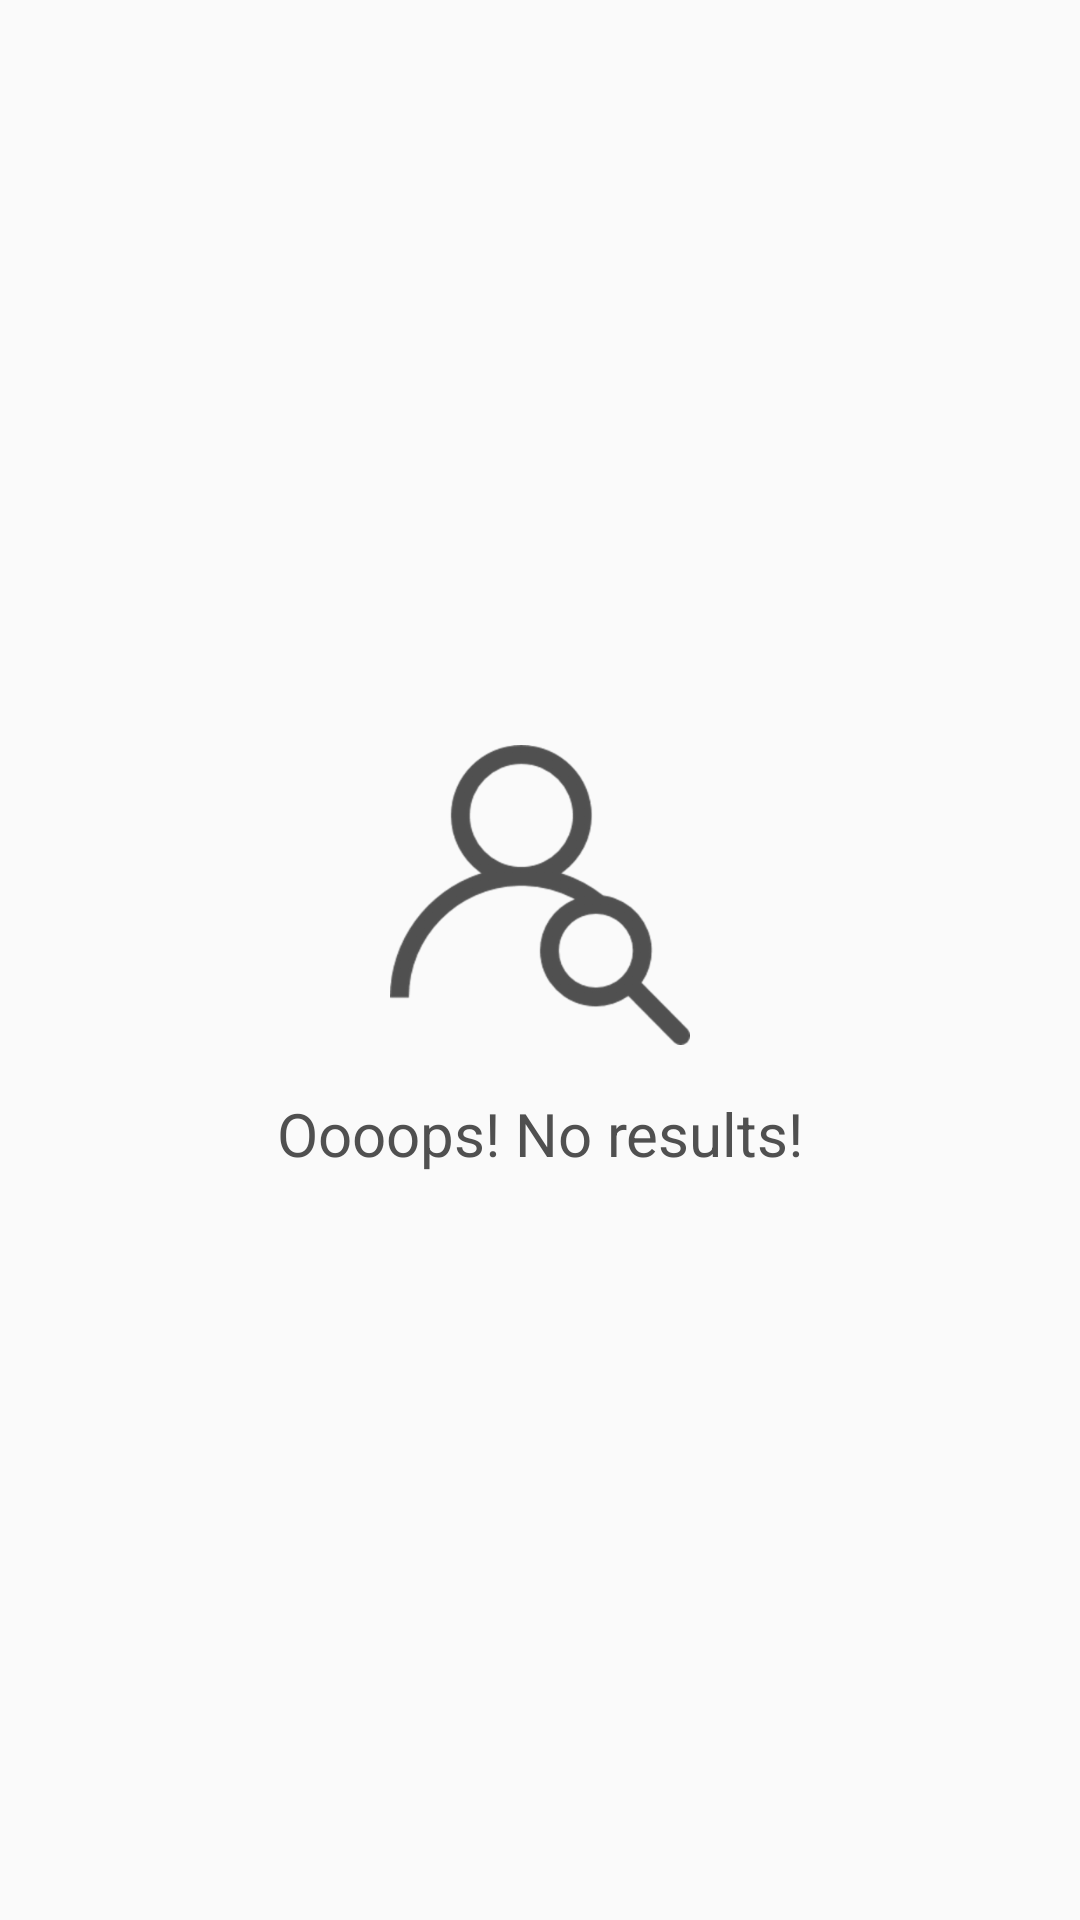

Icons on this 1080px x 1920px Android screen, each with the point to tap as point (x, y):
user search: point (540, 895)
